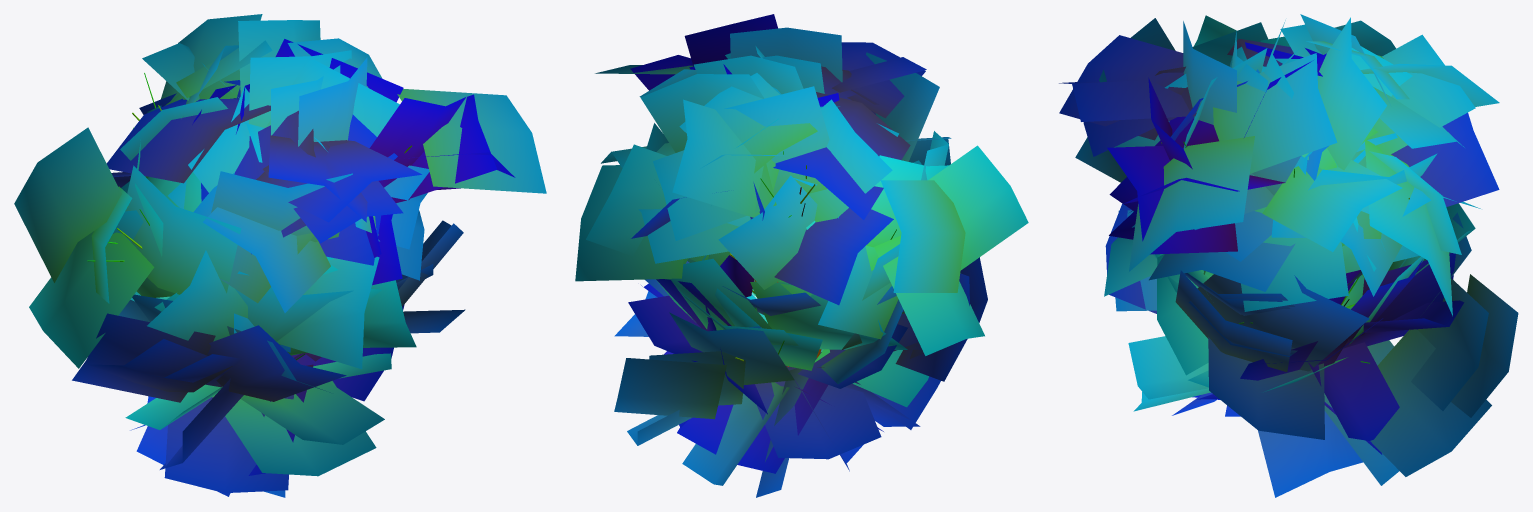
Rendered from SM_Bush_Hazel_B_LOD2.fbx.
3 views of the same model, side by side, from view 1: azimuth 30°, elevation 25°; view 2: azimuth 150°, elevation 25°; view 3: azimuth 270°, elevation 25° (orthographic). The views are drawn at different scales.
Visible parts, largest first — view 1: SM_Bush_Hazel_B_LOD2; view 2: SM_Bush_Hazel_B_LOD2; view 3: SM_Bush_Hazel_B_LOD2.
Part boxes in pixels (<box>): SM_Bush_Hazel_B_LOD2: <box>14,14,546,497</box>; SM_Bush_Hazel_B_LOD2: <box>575,14,1028,497</box>; SM_Bush_Hazel_B_LOD2: <box>1059,14,1518,497</box>.
Size of the model in its own units: 2.89 by 2.9 by 2.55.
